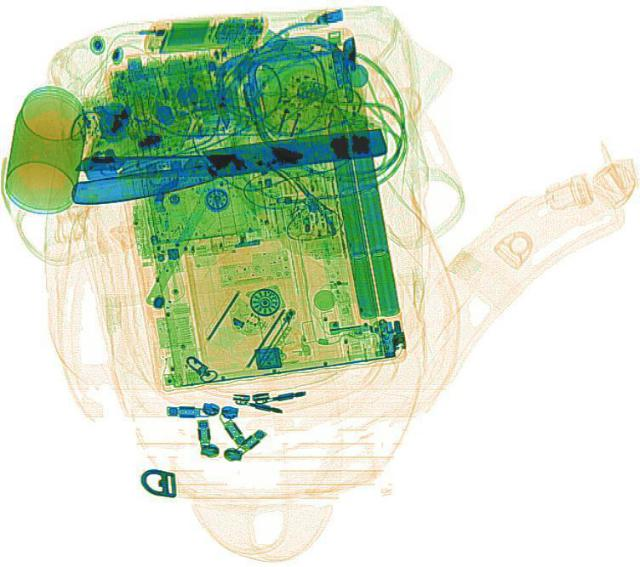Knife: (66, 124, 388, 206)
